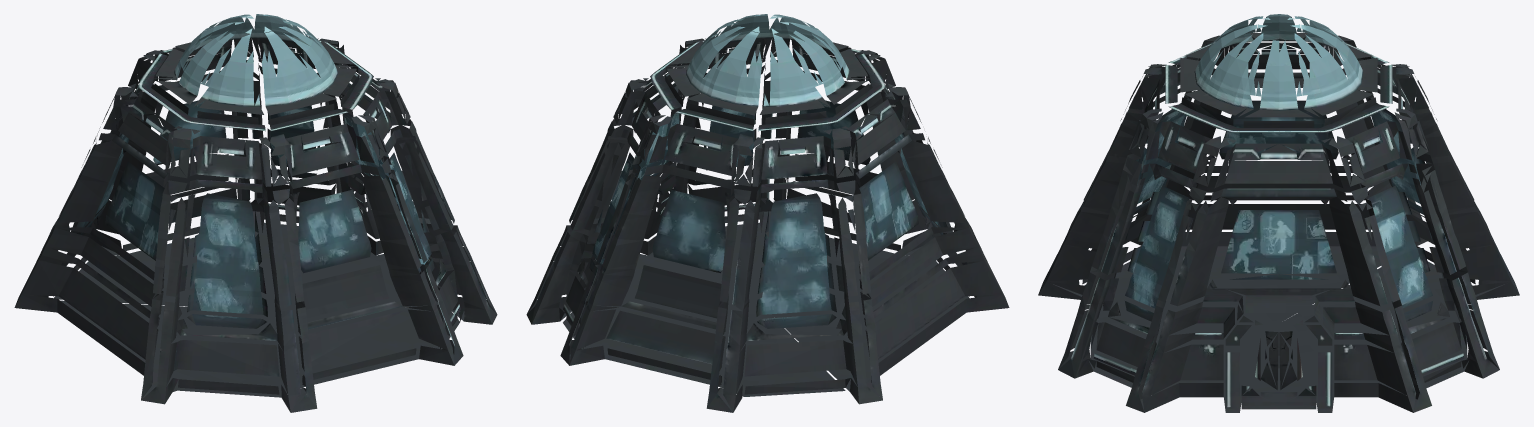
Rendered from ops_center_LOD2.glb.
3 renders of one model, left to right at view 1: azimuth 30°, elevation 25°; view 2: azimuth 150°, elevation 25°; view 3: azimuth 270°, elevation 25°, orthographic. The views are drawn at different scales.
Parts seen in each view (by area): view 1: ops_center_LOD2; view 2: ops_center_LOD2; view 3: ops_center_LOD2.
Part boxes in pixels (box(x1,y1,x2,y2)): ops_center_LOD2: box(14, 14, 497, 412); ops_center_LOD2: box(526, 14, 1009, 412); ops_center_LOD2: box(1038, 14, 1519, 412).
Size of the model in its own units: 0.88 by 0.6799 by 0.9927.
1 material, 1 textured.
